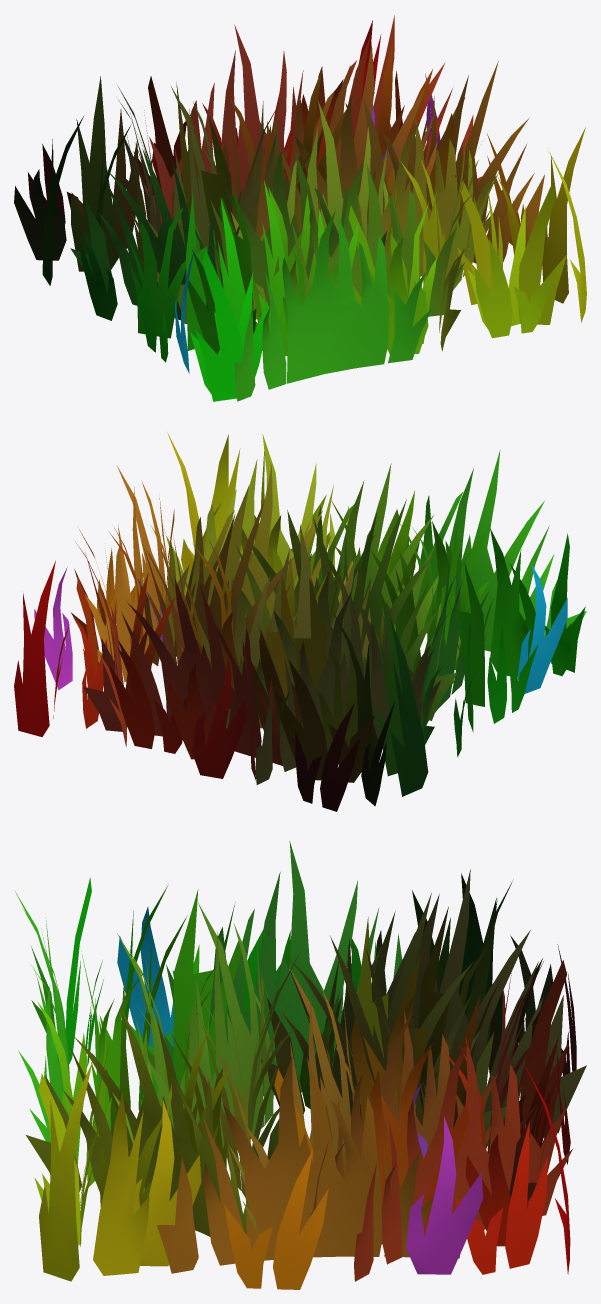
File: SM_BakedMesh.DATA.fbx
3 renders of one model, top to bottom at view 1: azimuth 30°, elevation 25°; view 2: azimuth 150°, elevation 25°; view 3: azimuth 270°, elevation 25°, orthographic. The views are drawn at different scales.
Visible parts, largest first — view 1: BakedMesh.DATA; view 2: BakedMesh.DATA; view 3: BakedMesh.DATA.
Boxes of the visible parts, <box> form: BakedMesh.DATA: <box>14,15,586,401</box>; BakedMesh.DATA: <box>14,432,586,811</box>; BakedMesh.DATA: <box>14,841,586,1289</box>.
Size of the model in its own units: 216 by 92.81 by 211.
